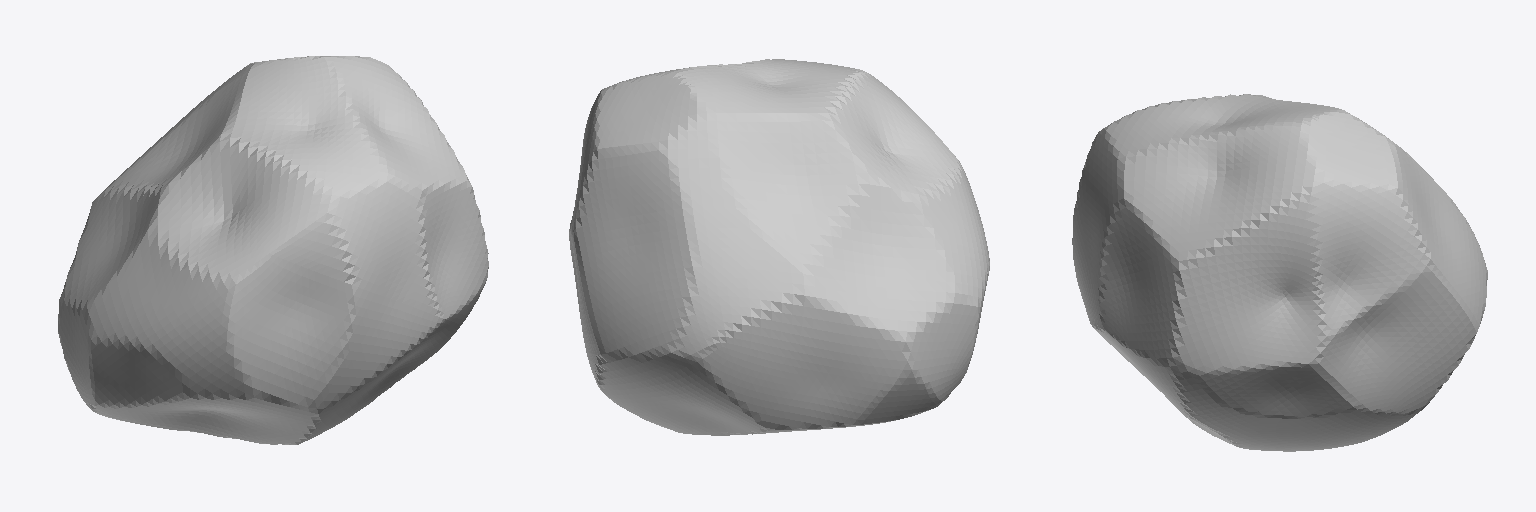
File: Камень1.obj
3 views of the same model, side by side, from view 1: azimuth 30°, elevation 25°; view 2: azimuth 150°, elevation 25°; view 3: azimuth 270°, elevation 25° (orthographic).
Visible parts, largest first — view 1: Cube; view 2: Cube; view 3: Cube.
Part boxes in pixels (x1,y1,x2,y2): Cube: (58,56,488,444); Cube: (569,59,989,435); Cube: (1072,94,1487,451).
Size of the model in its own units: 2.56 by 2.24 by 2.45.